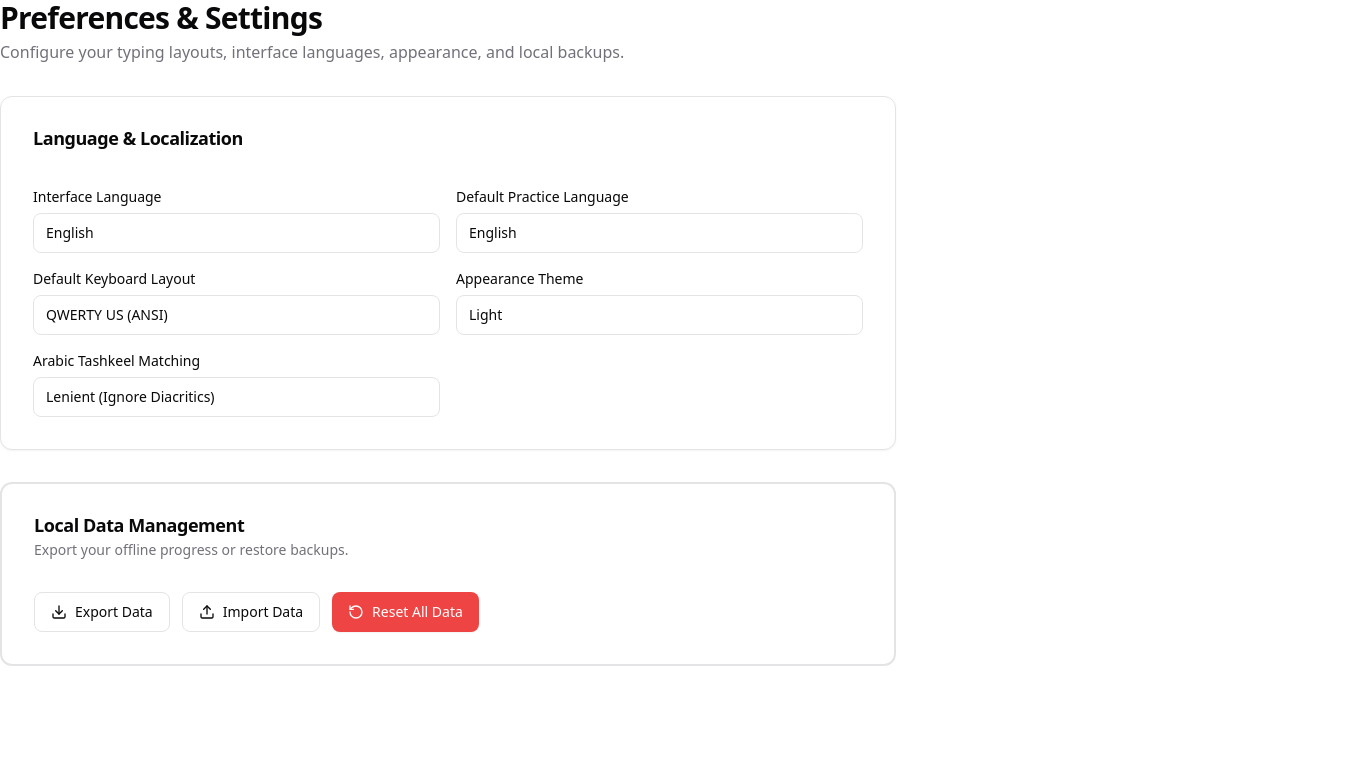
Test: Route Rendering Challenge & Stress Suite › SettingsPage (/settings) › renders settings selects and handles reset modal workflow
The image size is (1366, 768).
Expected: the text "Reset All Local Data?" is not shown
Click Reset All
Click the button "Reset All Data" at (405, 612), box [332,592,479,632]
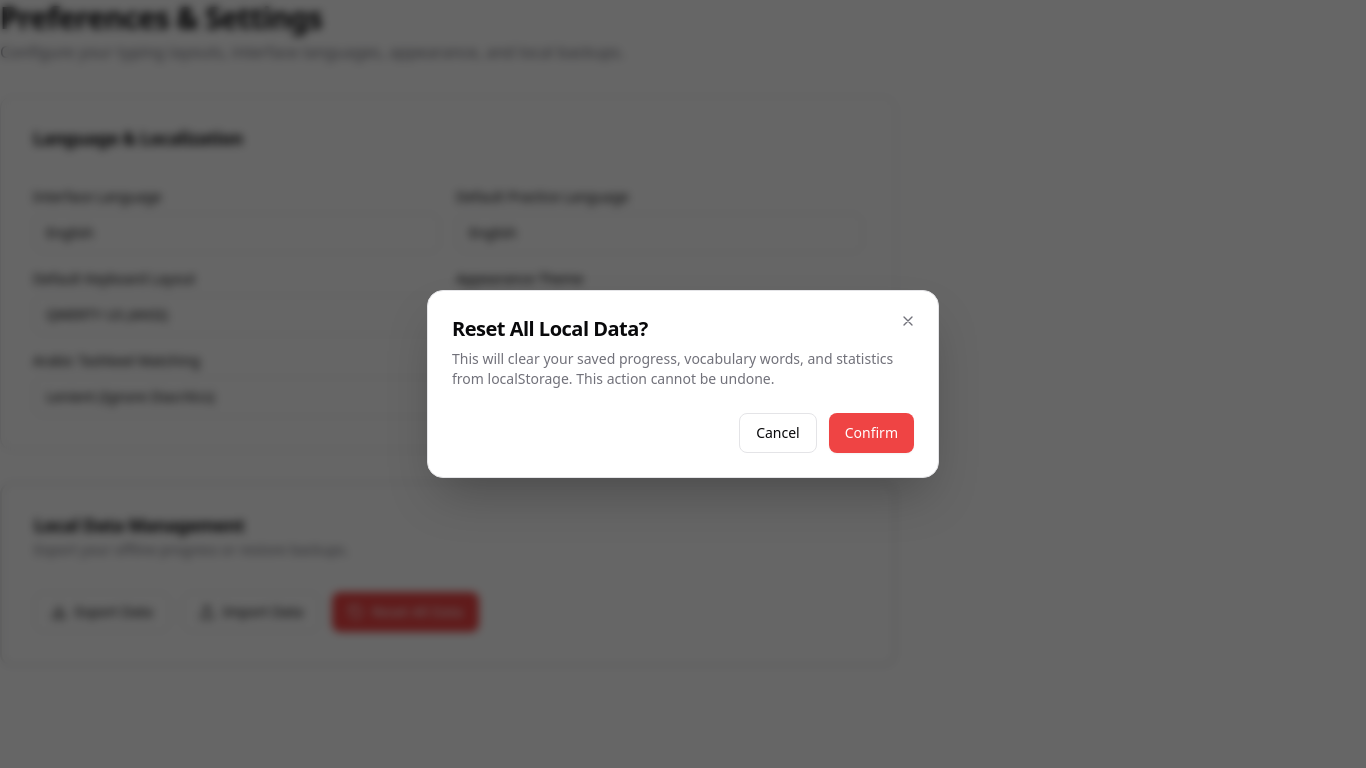
Expected: the heading "Reset All Local Data?" is shown, [452,315,648,342]
Cancel closes dialog without clearing
Click the button "Cancel" at (778, 433), box [739,413,817,453]
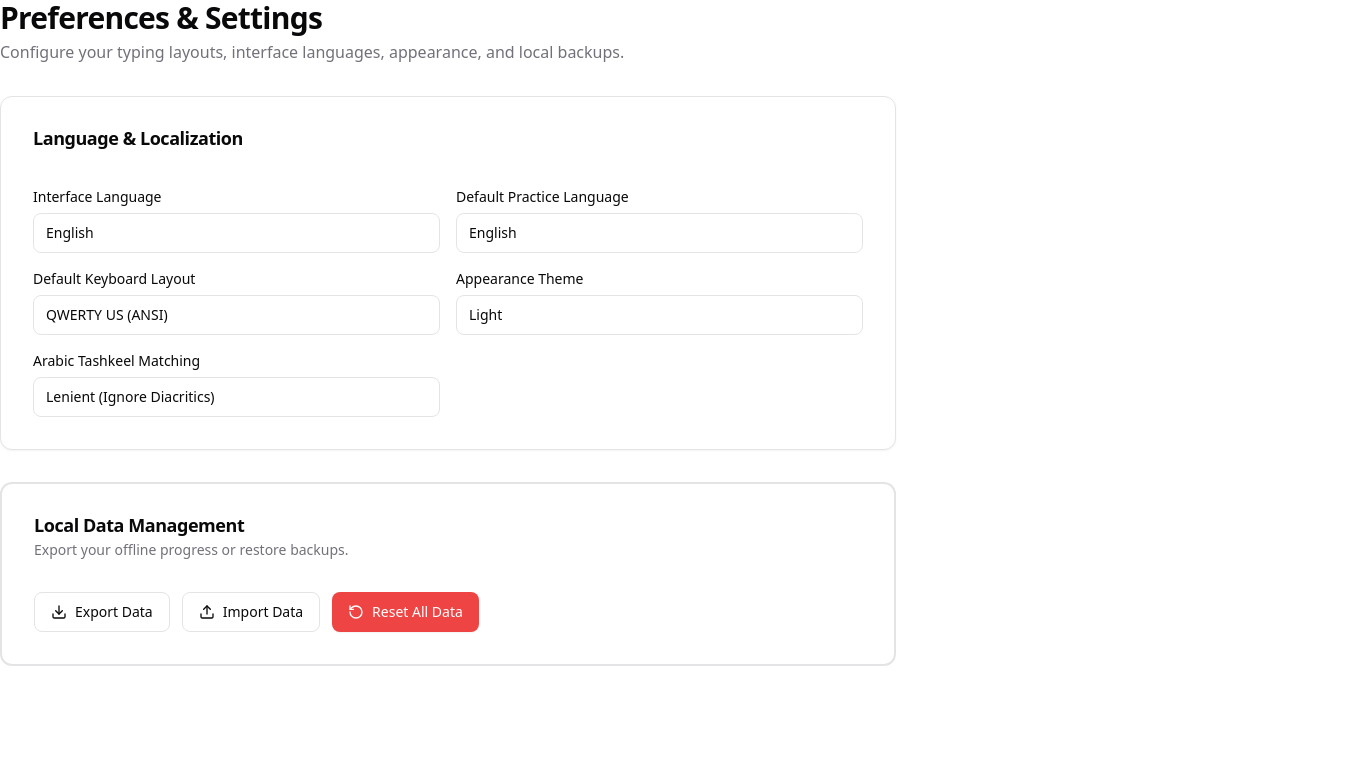
Expected: the heading "Reset All Local Data?" is gone
Open again and confirm
Click the button "Reset All Data" at (405, 612), box [332,592,479,632]
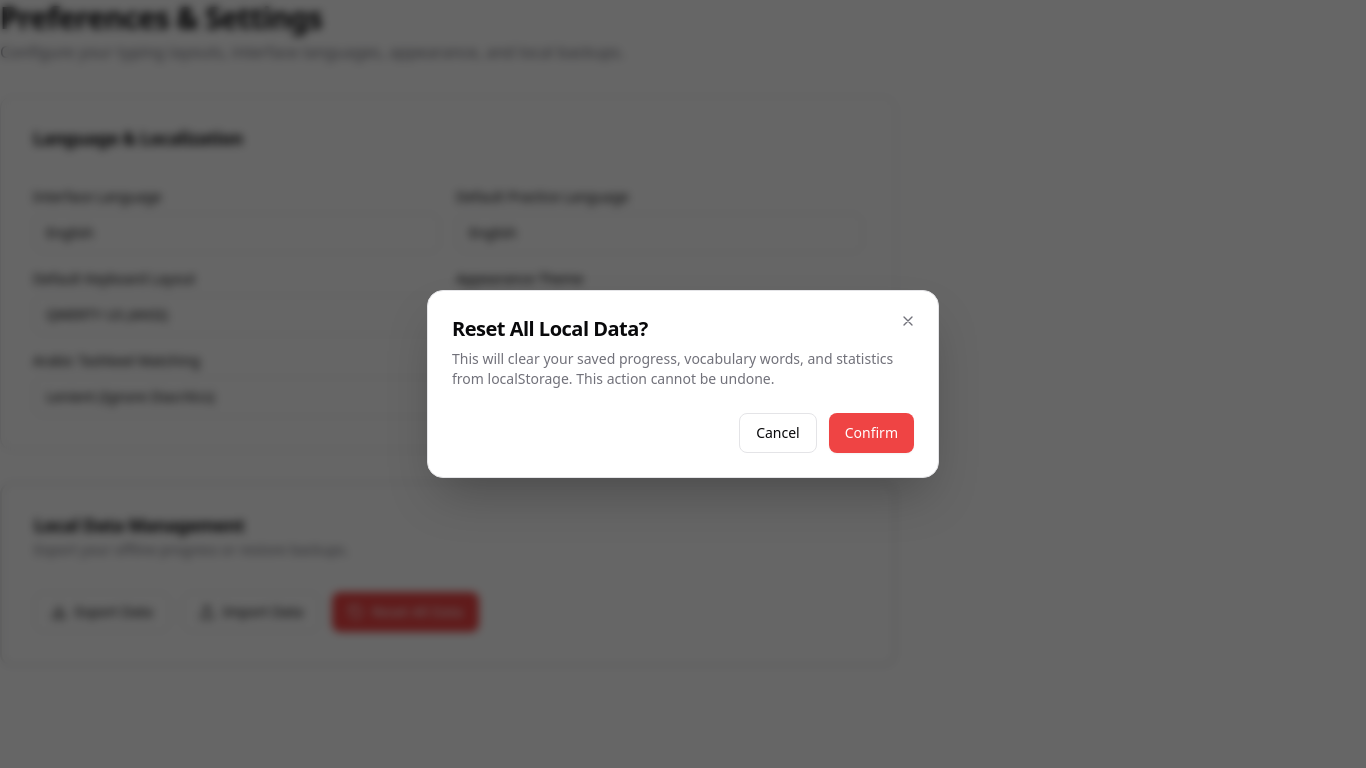
Click the button "Confirm" at (871, 433), box [829,413,914,453]
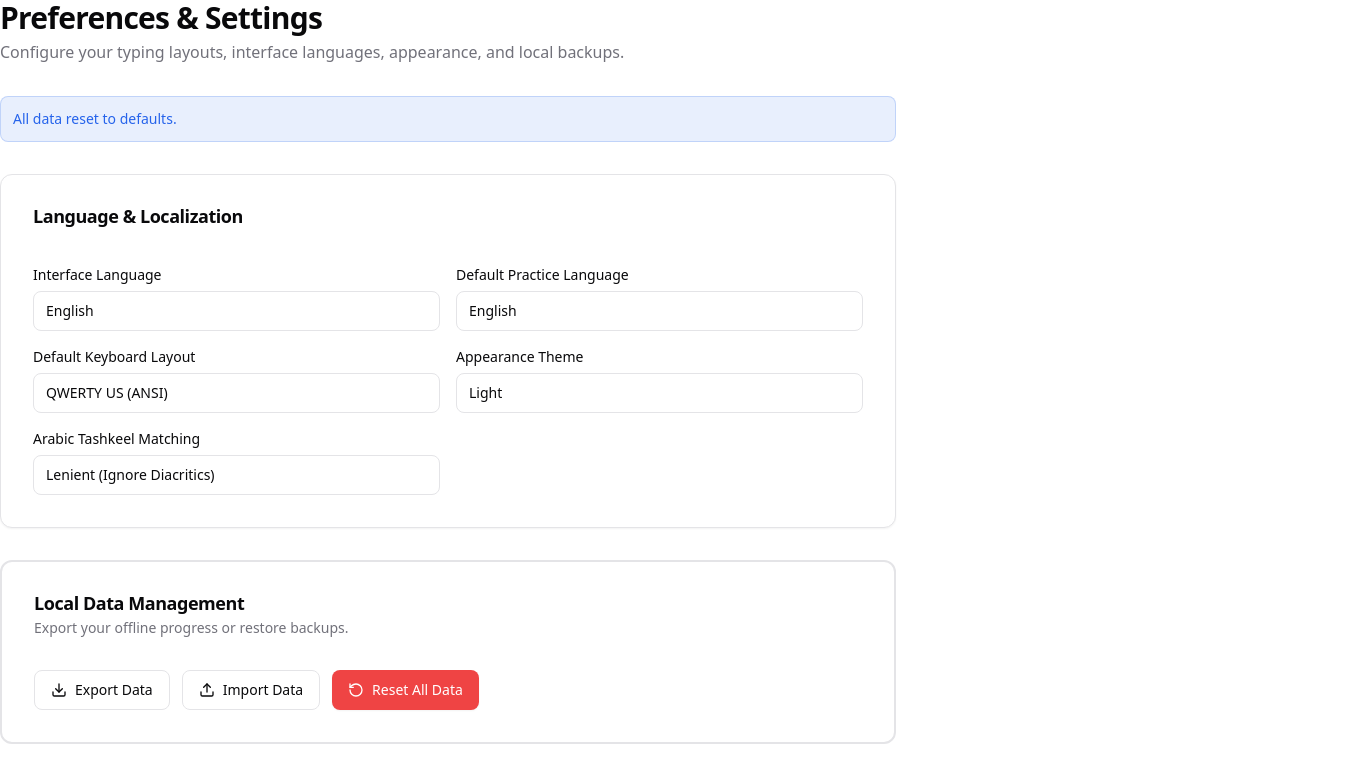
Expected: the text "All data reset to defaults." is shown, [0,96,896,142]
